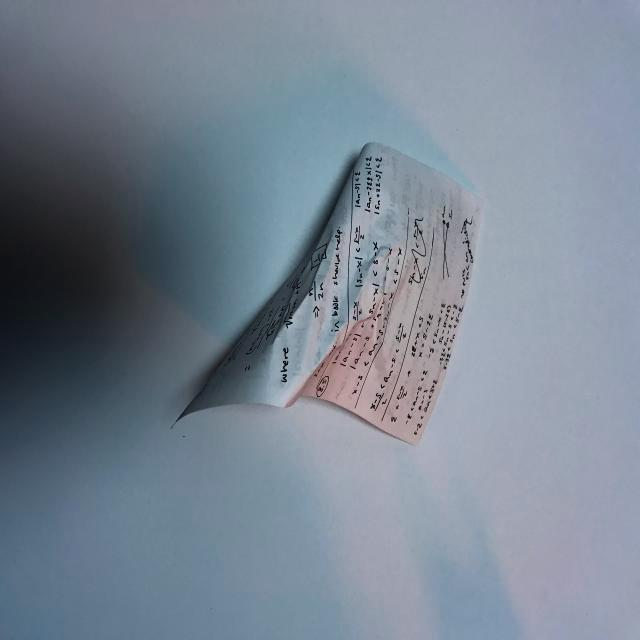paper: (172, 140, 483, 443)
